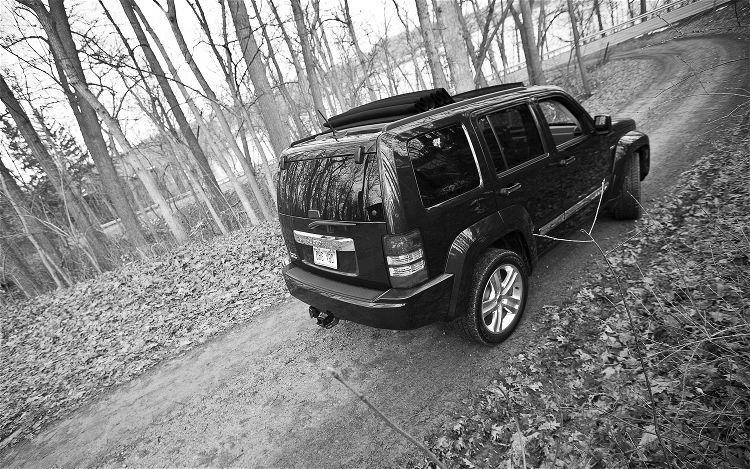car: (275, 80, 657, 351)
